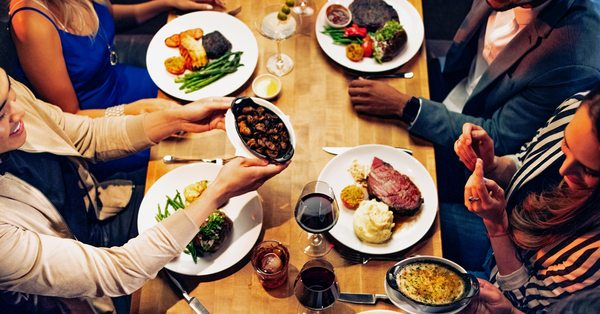pizza: (251, 240, 292, 299), (294, 258, 339, 310)
sushi: (386, 255, 481, 313), (224, 96, 295, 167)
